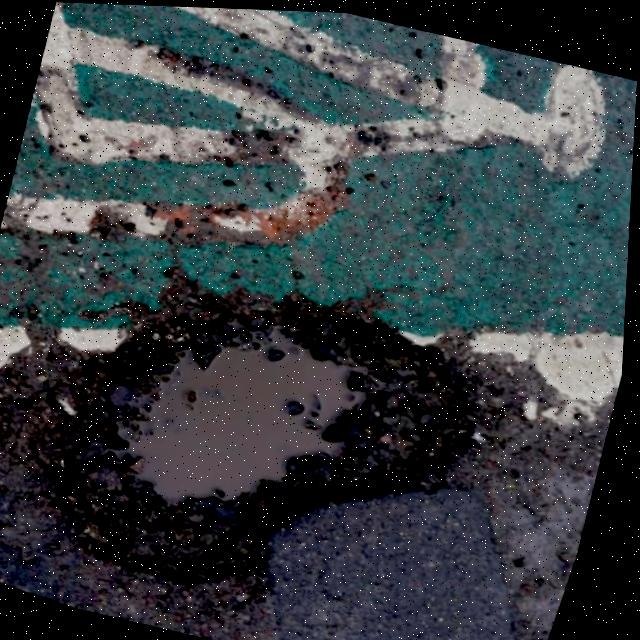Pothole: (24, 185, 572, 640)
